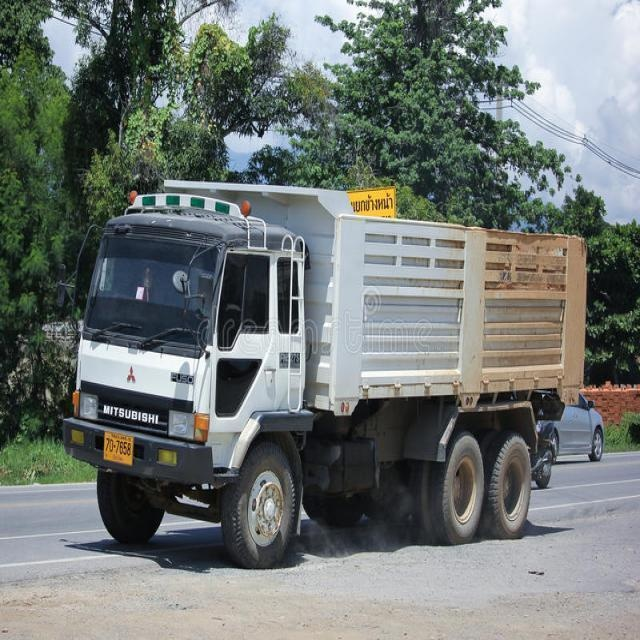Truck: (59, 174, 584, 566)
